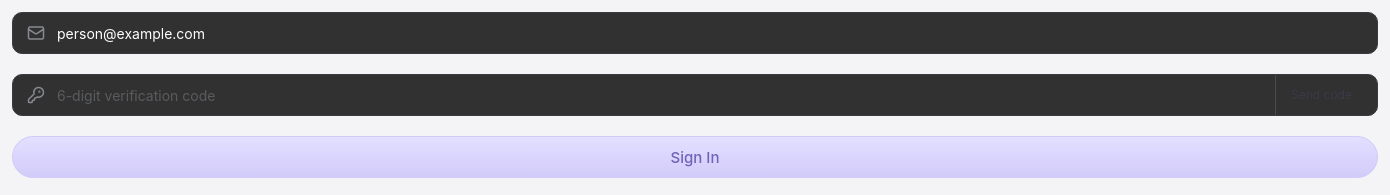
Test case: EmailCodeLoginForm › keeps the requested email editable, shows a success toast, and starts the cooldown
Click the button with class "email-code-login-form__send": click(1319, 95) x1=1275 y1=75 x2=1363 y2=115
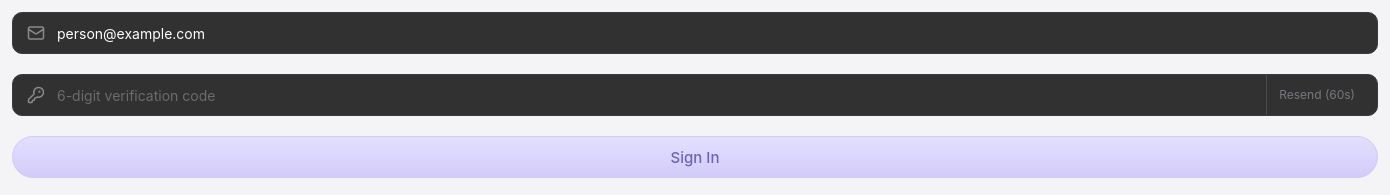
Check: the field with id "email-code-login-email" is enabled, box x1=57 y1=14 x2=1363 y2=52
Check: the button with class "email-code-login-form__send" shows "60s", box x1=1266 y1=75 x2=1363 y2=115
